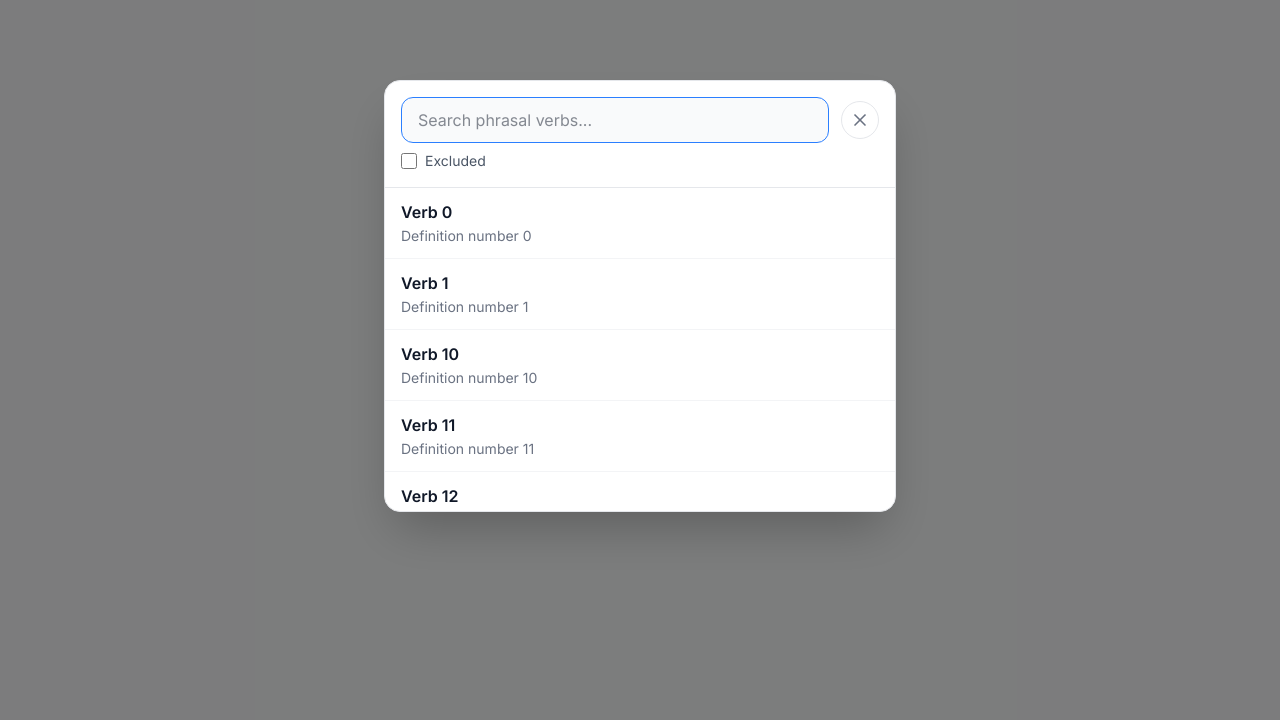
SearchModal › shows matching results by definition as query is typed
The width and height of the screenshot is (1280, 720).
Type "Definition number 3" into the field with placeholder "Search phrasal verbs..." at (615, 120), box [401,97,829,143]
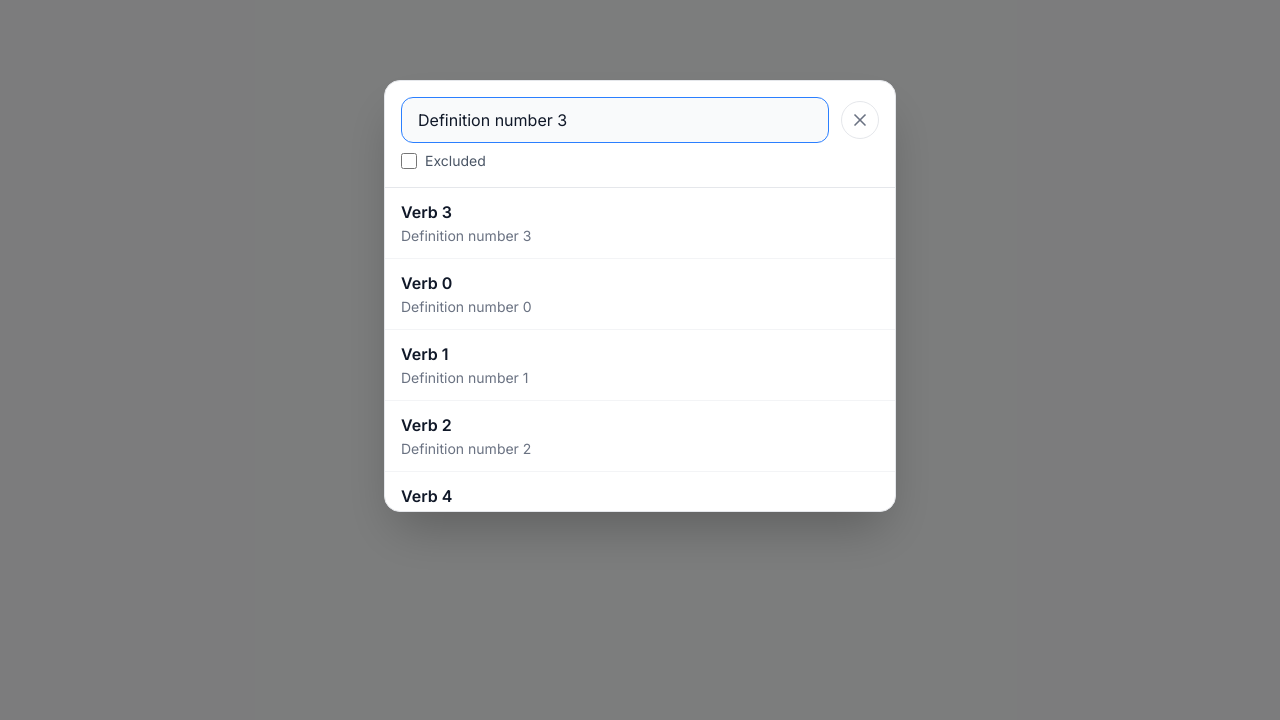
Expected: the text "Verb 3" is shown, [401,200,452,224]
